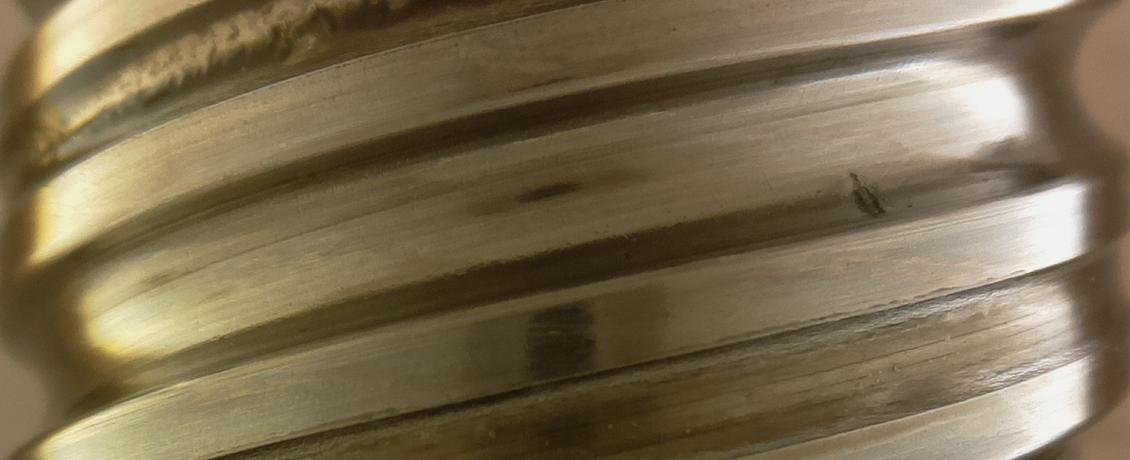pitting: (847, 172, 885, 217)
